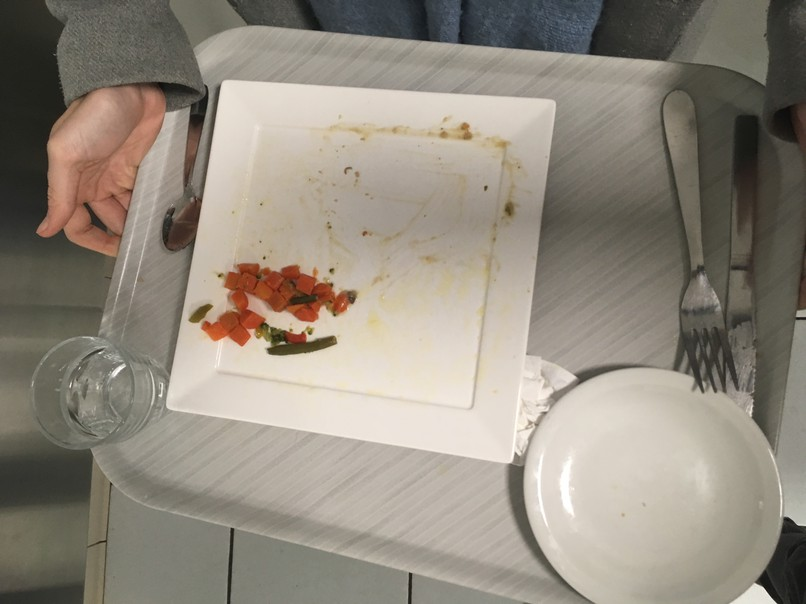cup: (14, 335, 195, 458)
cutlery: (649, 82, 782, 418), (161, 79, 218, 254)
orga: (211, 258, 359, 361)
trash: (517, 348, 571, 463)
